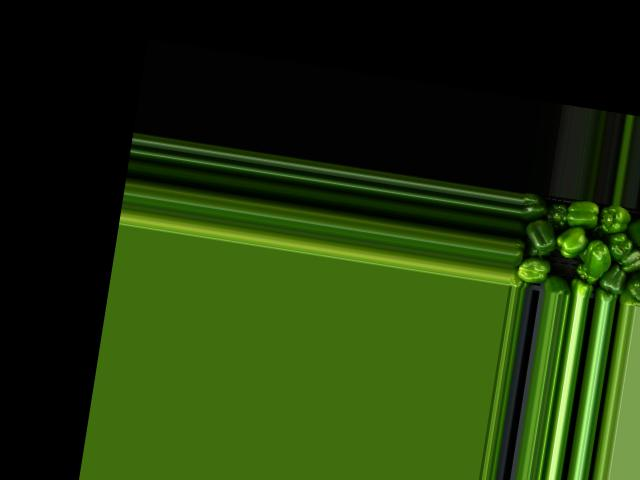bell_pepper: (625, 221, 640, 251)
